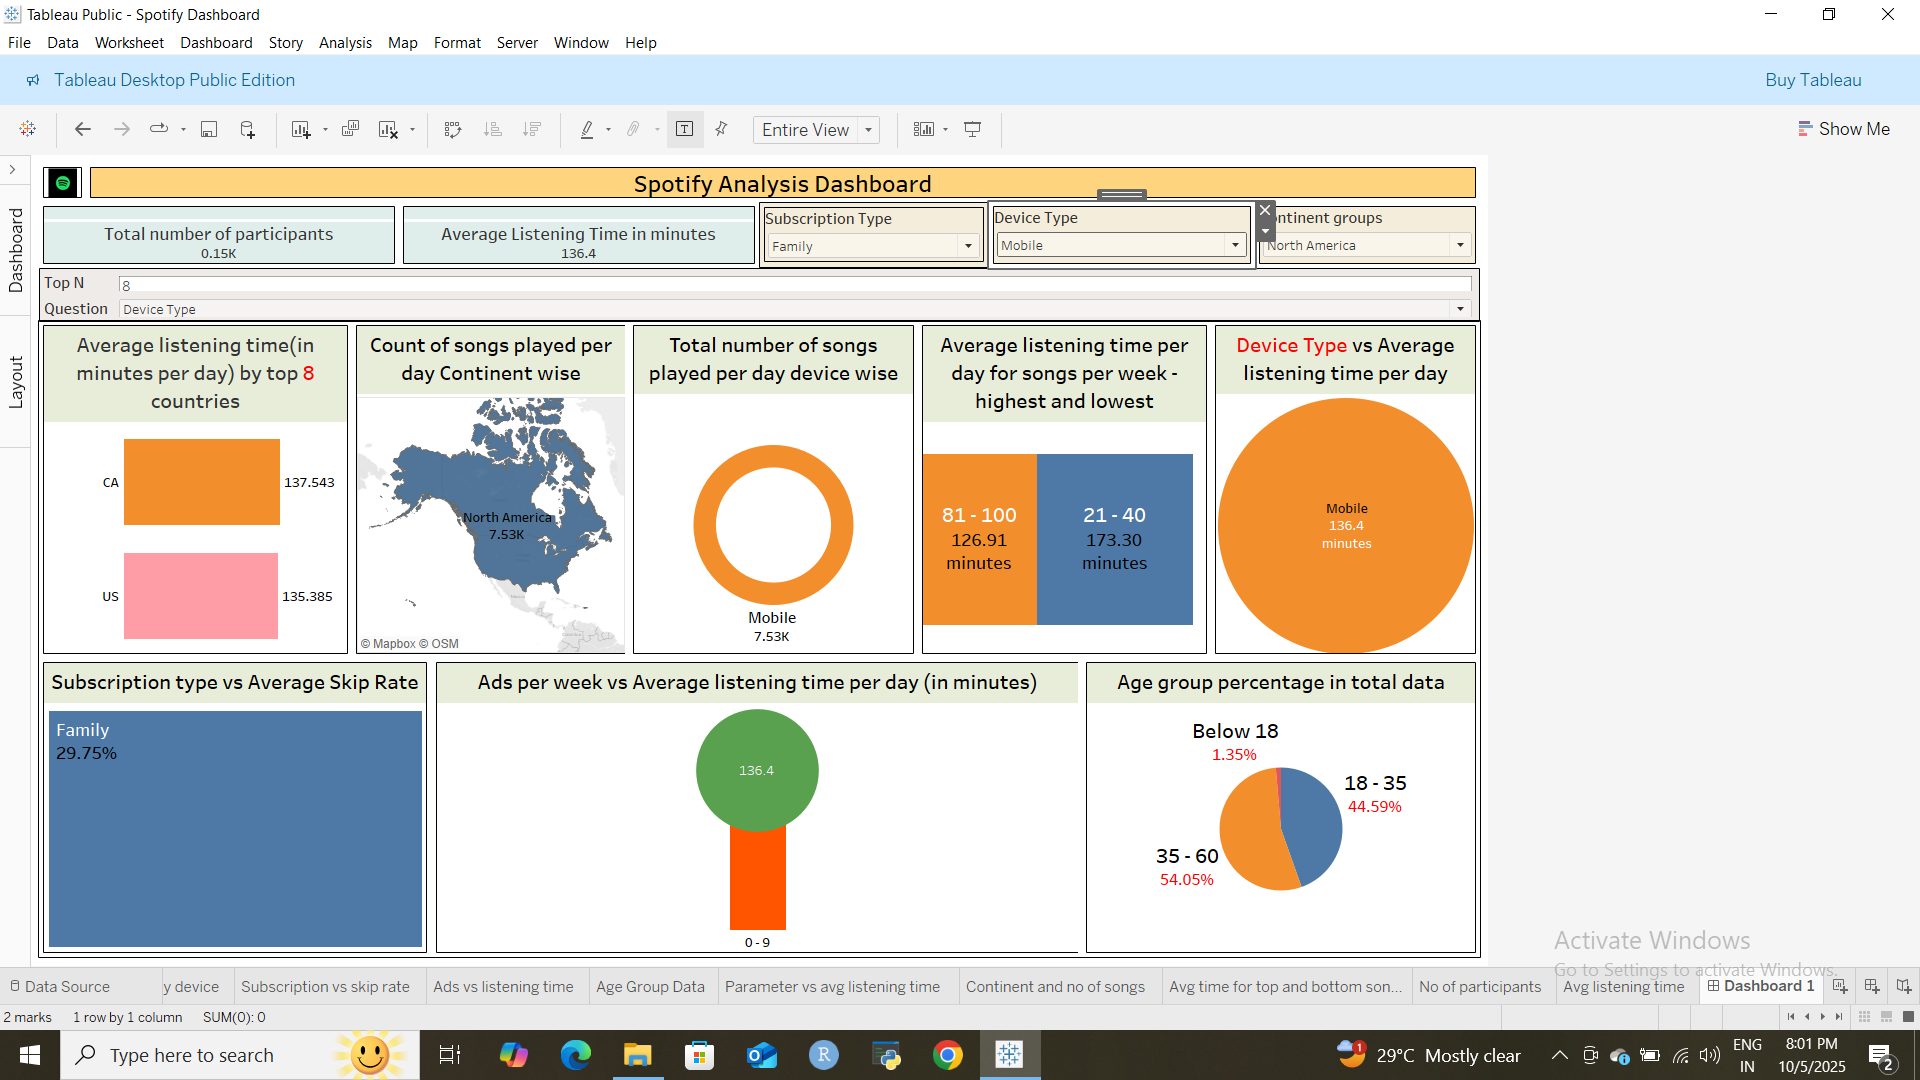

This screenshot's page, from the dashboard's own definition file:
{"tool":"tableau","page":{"name":"Spotify Dashboard","canvas":[1000,1000],"units":"permille","ordinal":0},"visuals":[{"type":"image","param":"Image/9f5edc36-eb4d-414a-8447-10514f2bc224-cover.png","box":[4.2,9.9,32.5,48.1]},{"type":"text","box":[36.8,9.9,959,48.1]},{"type":"worksheet","title":"No of participants","mark":"Automatic","box":[4.2,57.9,247.8,81.4]},{"type":"worksheet","title":"Avg listening time","mark":"Automatic","box":[252.1,57.9,247.9,81.4]},{"type":"filter","title":"Songs played by device","param":"[federated.1gn5vaq1ly7l3y17p7z3v0p7hh3u].[none:device_type:nk]","box":[657.9,57.9,183.1,81.4]},{"type":"filter","title":"Continent and no of songs","param":"[federated.1gn5vaq1ly7l3y17p7z3v0p7hh3u].[Conuntry grouped to Continents]","box":[841,57.9,154.8,81.4]},{"type":"filter","title":"Subscription vs skip rate","param":"[federated.1gn5vaq1ly7l3y17p7z3v0p7hh3u].[none:subscription_type:nk]","box":[500.5,59.1,156.9,77.7]},{"type":"parameter","param":"[Parameters].[Parameter 1]","box":[4.8,140.6,990.5,32.1]},{"type":"parameter","param":"[Parameters].[Parameter 2]","box":[4.8,172.6,990.5,32.1]},{"type":"worksheet","title":"Avg list time parameter","mark":"Automatic","rows":["country"],"cols":["listening_time"],"box":[4.8,203.5,214.8,416.8]},{"type":"worksheet","title":"Continent and no of songs","mark":"Automatic","box":[219.7,203.5,190.8,416.8]},{"type":"worksheet","title":"Songs played by device","mark":"Pie","rows":["Calculation_955326126356881410","Calculation_955326126356897796"],"box":[410.5,203.5,198.6,416.8]},{"type":"worksheet","title":"Avg time for top and bottom songs","mark":"Automatic","cols":["listening_time"],"box":[609.1,203.5,201.3,416.8]},{"type":"worksheet","title":"Parameter vs avg listening time","mark":"Circle","box":[810.4,203.5,184.8,416.8]},{"type":"worksheet","title":"Subscription vs skip rate","mark":"Automatic","box":[4.8,620.2,269.8,369.9]},{"type":"worksheet","title":"Ads vs listening time","mark":"Automatic","rows":["listening_time","listening_time"],"cols":["Calculation_955326126362046473"],"box":[274.6,620.2,447.2,369.9]},{"type":"worksheet","title":"Age Group Data","mark":"Pie","box":[721.8,620.2,273.4,369.9]}]}

Visuals, with their boxes on the dashboard's canvas, which has no fixed pixel size, in thousandths of its width and height (x1, y1, x2, y2). These are canvas units, not pixel positions in the 1920x1080 screenshot, which may show the page scaled, cropped or inside an application window:
image: box(4, 10, 37, 58)
text: box(37, 10, 996, 58)
"No of participants" worksheet: box(4, 58, 252, 139)
"Avg listening time" worksheet: box(252, 58, 500, 139)
"Songs played by device" filter: box(658, 58, 841, 139)
"Continent and no of songs" filter: box(841, 58, 996, 139)
"Subscription vs skip rate" filter: box(500, 59, 657, 137)
parameter: box(5, 141, 995, 173)
parameter: box(5, 173, 995, 205)
"Avg list time parameter" worksheet: box(5, 204, 220, 620)
"Continent and no of songs" worksheet: box(220, 204, 410, 620)
"Songs played by device" worksheet (Pie marks): box(410, 204, 609, 620)
"Avg time for top and bottom songs" worksheet: box(609, 204, 810, 620)
"Parameter vs avg listening time" worksheet (Circle marks): box(810, 204, 995, 620)
"Subscription vs skip rate" worksheet: box(5, 620, 275, 990)
"Ads vs listening time" worksheet: box(275, 620, 722, 990)
"Age Group Data" worksheet (Pie marks): box(722, 620, 995, 990)
